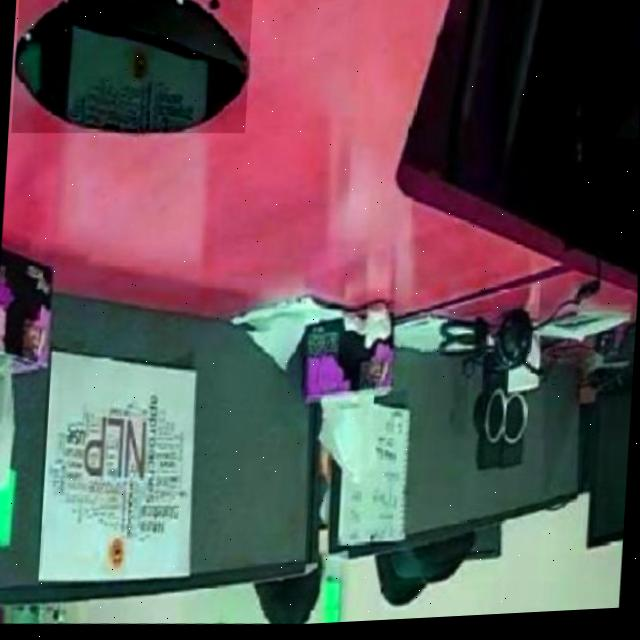spillage: (16, 0, 248, 135)
